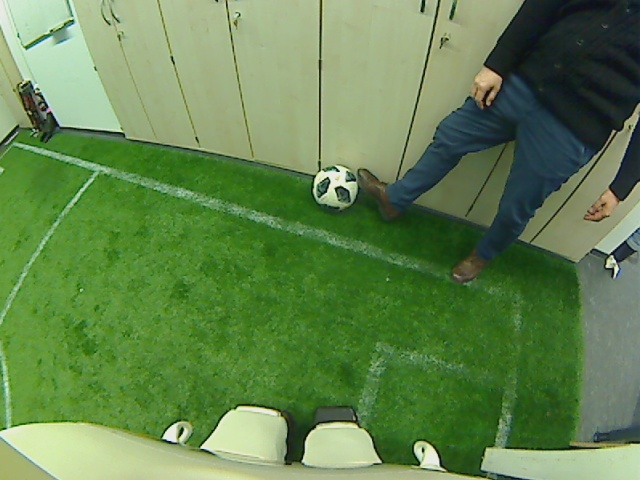ball: (311, 163, 359, 209)
